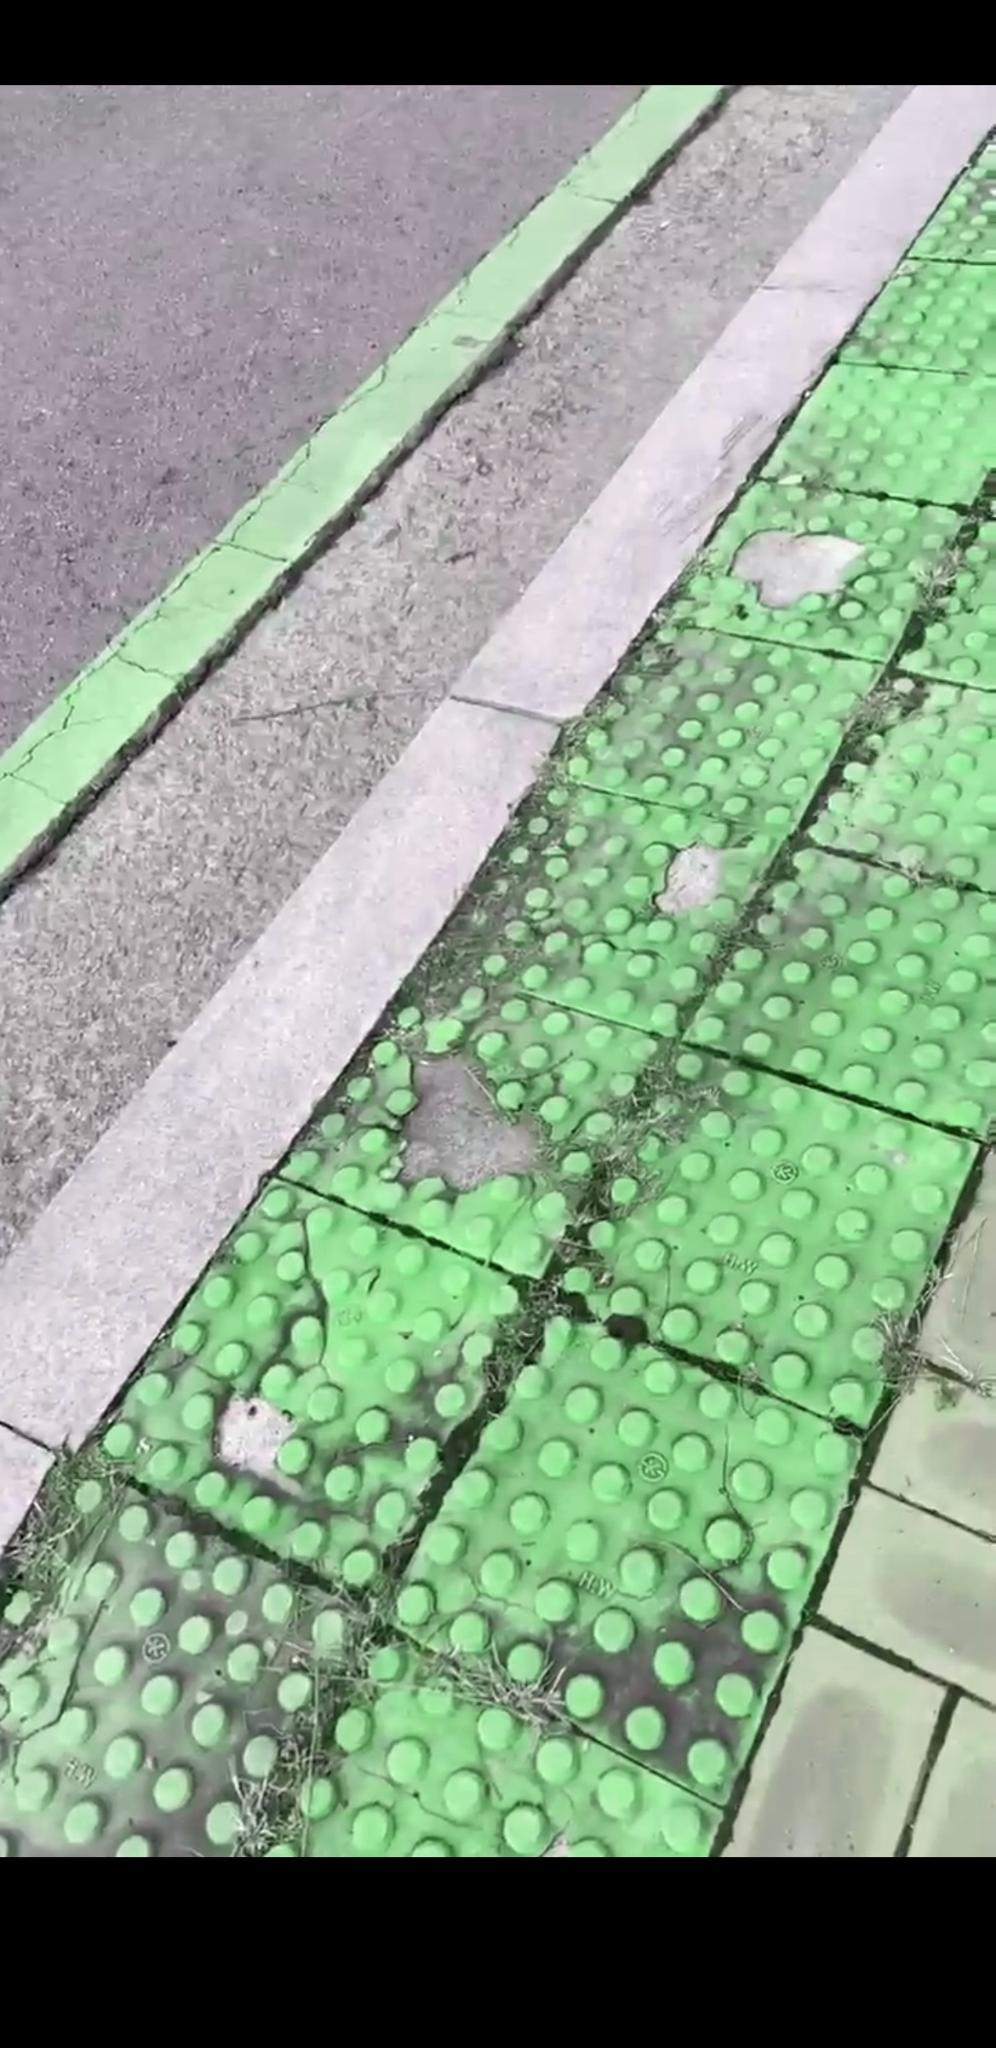Stop block broken: (84, 1178, 542, 1601), (283, 965, 671, 1277), (431, 778, 783, 1037), (664, 479, 966, 661)
Stop block normal: (551, 1045, 978, 1426)
